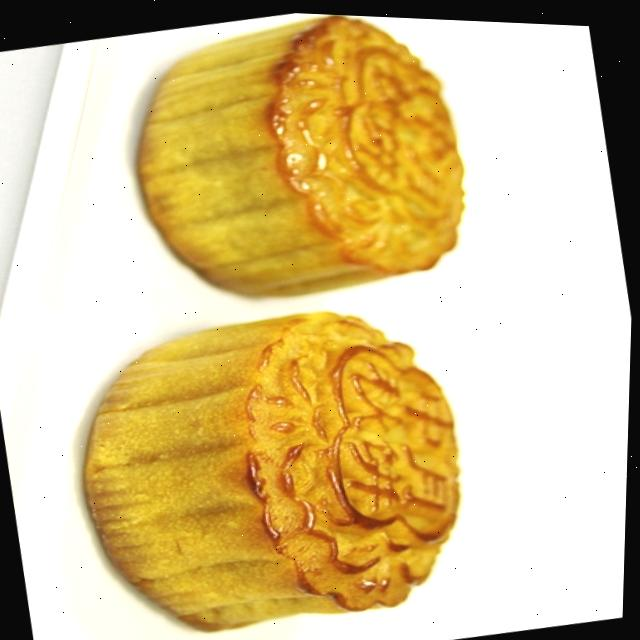蛋糕甜品: (3, 1, 590, 640)
